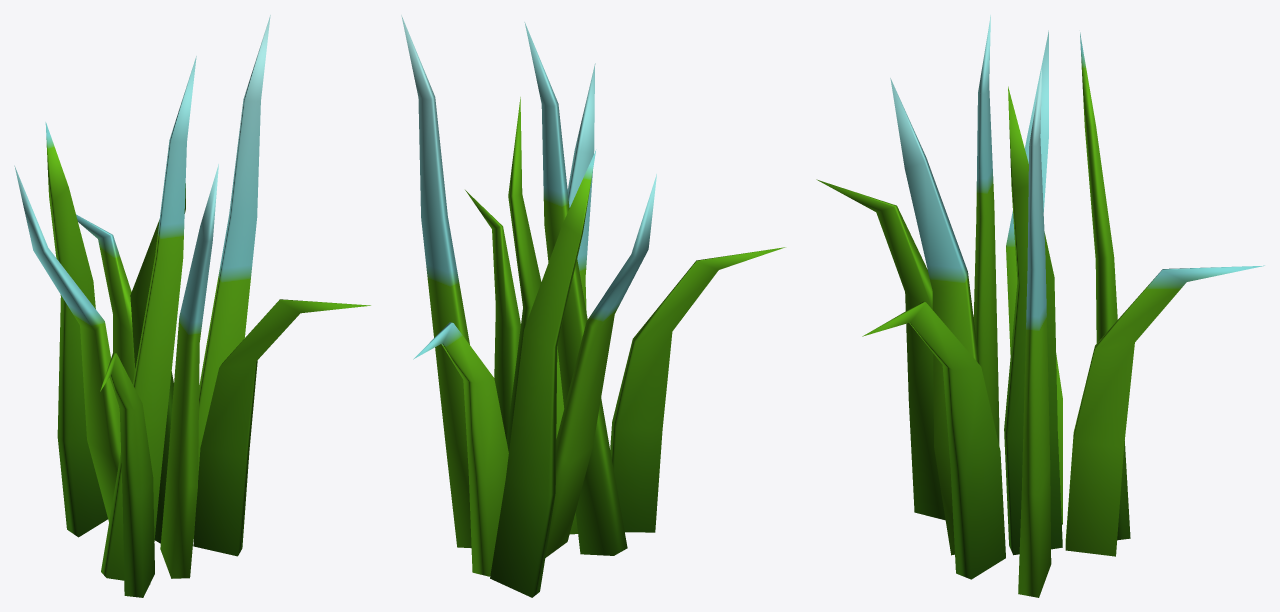
Rendered from Grass_2.fbx.
The picture shows the model from 3 angles, left to right: view 1: azimuth 30°, elevation 25°; view 2: azimuth 150°, elevation 25°; view 3: azimuth 270°, elevation 25°; orthographic projection. The views are drawn at different scales.
Parts seen in each view (by area): view 1: Grass_2; view 2: Grass_2; view 3: Grass_2.
Boxes of the visible parts, left/top/right/bottom form: Grass_2: left=14, top=15, right=370, bottom=597; Grass_2: left=401, top=15, right=785, bottom=597; Grass_2: left=816, top=15, right=1264, bottom=597.
Size of the model in its own units: 0.6319 by 1.05 by 0.7622.
